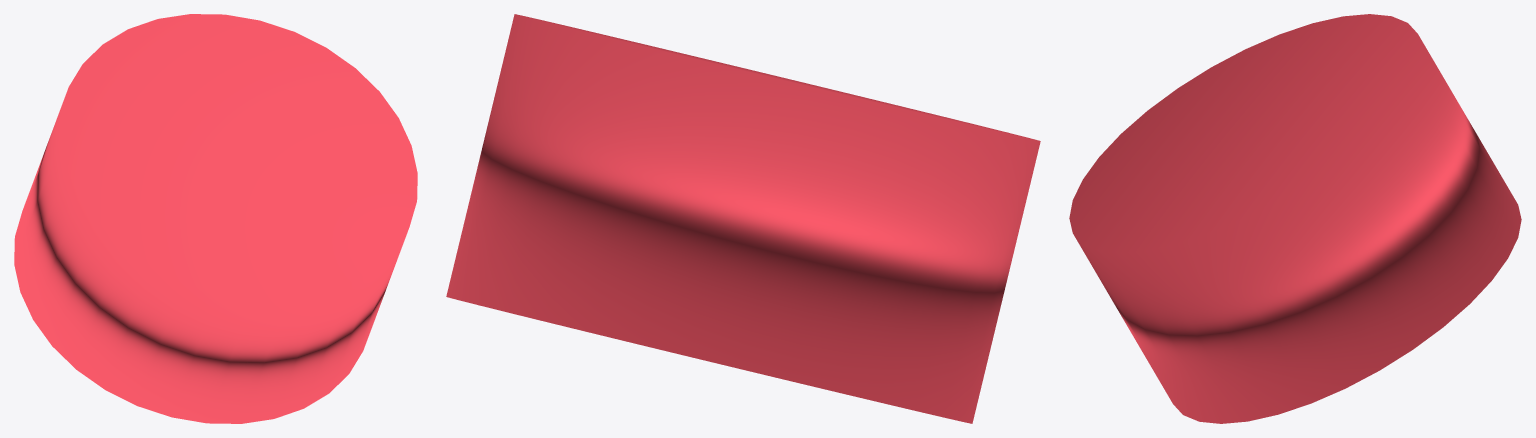
Rendered from HATCH_Steering_QuickRelease_Boss.glb.
3 renders of one model, left to right at view 1: azimuth 30°, elevation 25°; view 2: azimuth 150°, elevation 25°; view 3: azimuth 270°, elevation 25°, orthographic. The views are drawn at different scales.
Visible parts, largest first — view 1: HATCH_Steering_QuickRelease_Boss; view 2: HATCH_Steering_QuickRelease_Boss; view 3: HATCH_Steering_QuickRelease_Boss.
Boxes of the visible parts, x1,y1,x2,y2 form: HATCH_Steering_QuickRelease_Boss: (14, 14, 417, 423); HATCH_Steering_QuickRelease_Boss: (446, 14, 1040, 423); HATCH_Steering_QuickRelease_Boss: (1069, 14, 1521, 423).
Size of the model in its own units: 0.084 by 0.0792 by 0.0953.
